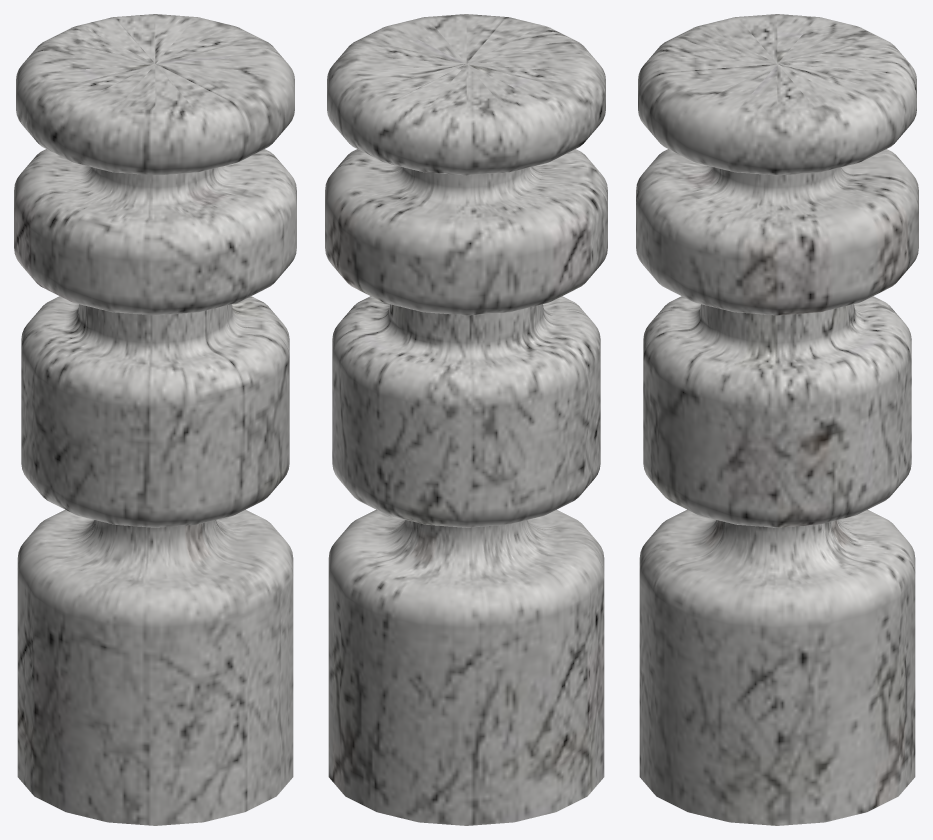
File: ACC006.glb
The picture shows the model from 3 angles, left to right: view 1: azimuth 30°, elevation 25°; view 2: azimuth 150°, elevation 25°; view 3: azimuth 270°, elevation 25°; orthographic projection.
Visible parts, largest first — view 1: BP_ACC006; view 2: BP_ACC006; view 3: BP_ACC006.
Part boxes in pixels (<box>): BP_ACC006: <box>14,14,296,825</box>; BP_ACC006: <box>325,14,607,825</box>; BP_ACC006: <box>636,14,918,825</box>.
Bounding box in the file's own units: 0.0766 × 0.2068 × 0.0754.
Materials: 1 (1 with a texture image).
